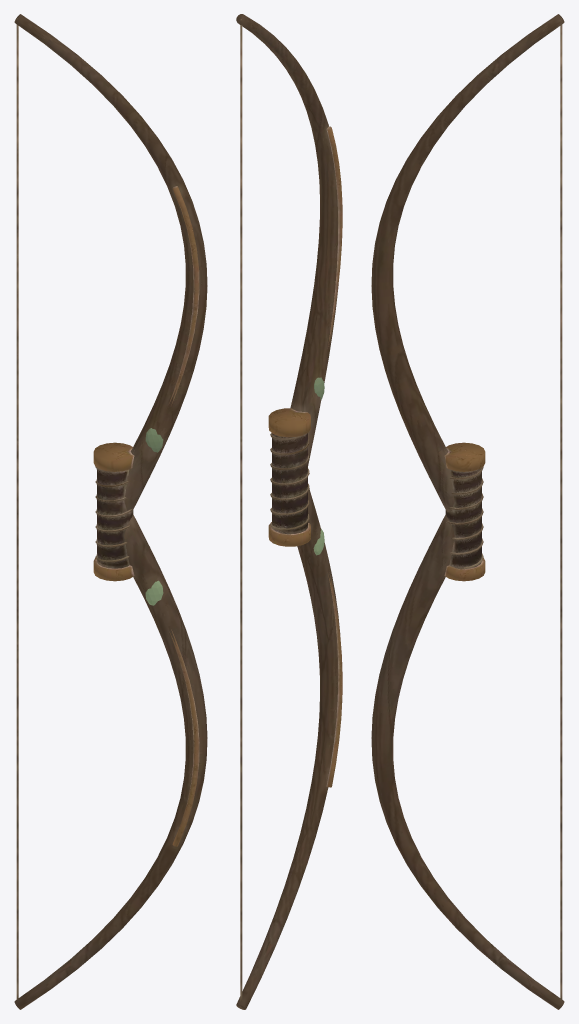
File: eq_bow_4.glb
The picture shows the model from 3 angles, left to right: view 1: azimuth 90°, elevation 25°; view 2: azimuth 150°, elevation 25°; view 3: azimuth 270°, elevation 25°; orthographic projection.
Visible parts, largest first — view 1: eq_bow_4; view 2: eq_bow_4; view 3: eq_bow_4.
Part boxes in pixels (box(x1,y1,x2,y2)): eq_bow_4: box(14, 14, 207, 1009); eq_bow_4: box(236, 14, 342, 1009); eq_bow_4: box(371, 14, 564, 1009).
Bounding box in the file's own units: 0.066 × 1.69 × 0.2978.
Materials: 1 (1 with a texture image).
